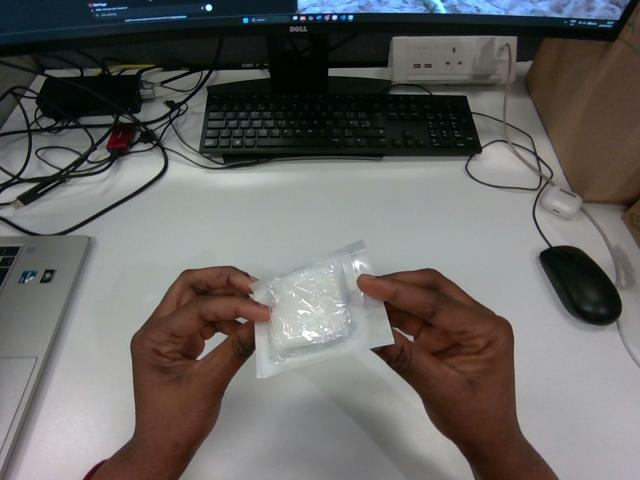gauze: (251, 241, 392, 377)
